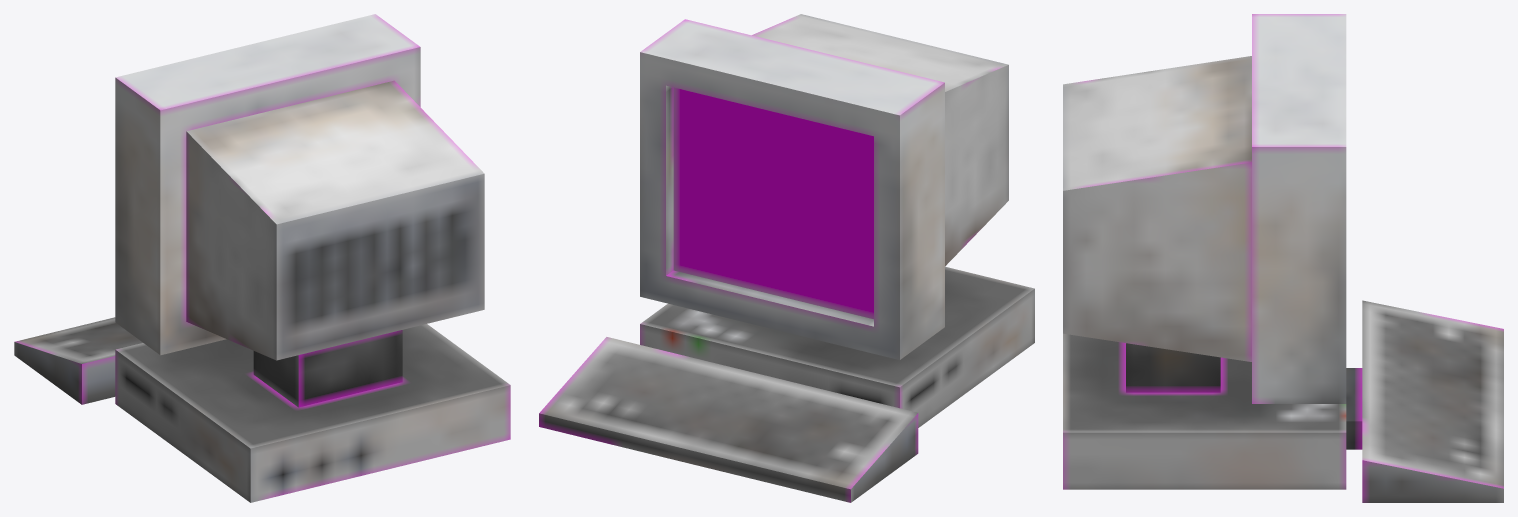
The model's file is 000_texture_test_computer.fbx.
The picture shows the model from 3 angles, left to right: view 1: azimuth 30°, elevation 25°; view 2: azimuth 150°, elevation 25°; view 3: azimuth 270°, elevation 25°; orthographic projection. The views are drawn at different scales.
Parts seen in each view (by area): view 1: computer; view 2: computer; view 3: computer.
Part boxes in pixels (left/top/right/bottom): computer: left=14, top=14, right=510, bottom=502; computer: left=539, top=14, right=1034, bottom=502; computer: left=1063, top=14, right=1503, bottom=502.
Bounding box in the file's own units: 120 × 120 × 140.
Materials: 1 (1 with a texture image).
